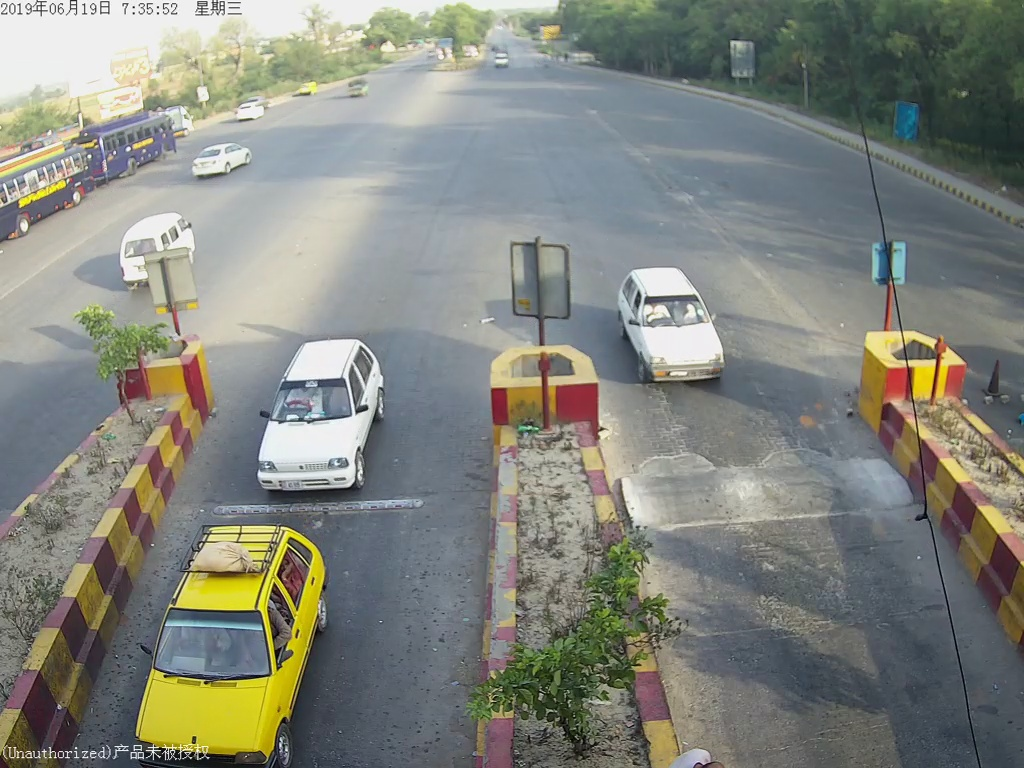Cat-1: (139, 541, 345, 747), (250, 334, 400, 498), (616, 264, 733, 388)
